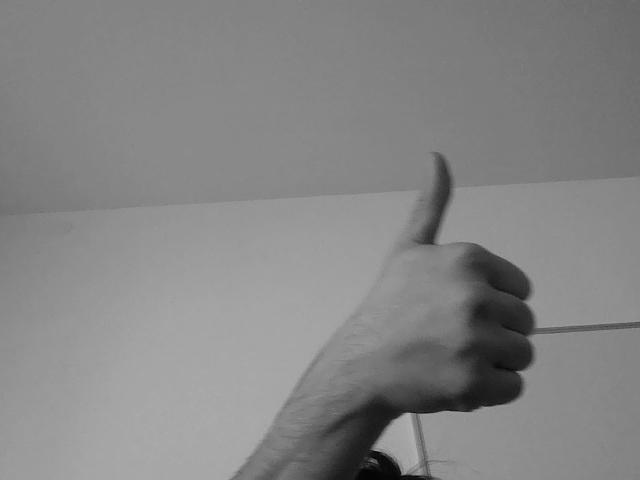good: (382, 132, 554, 432)
